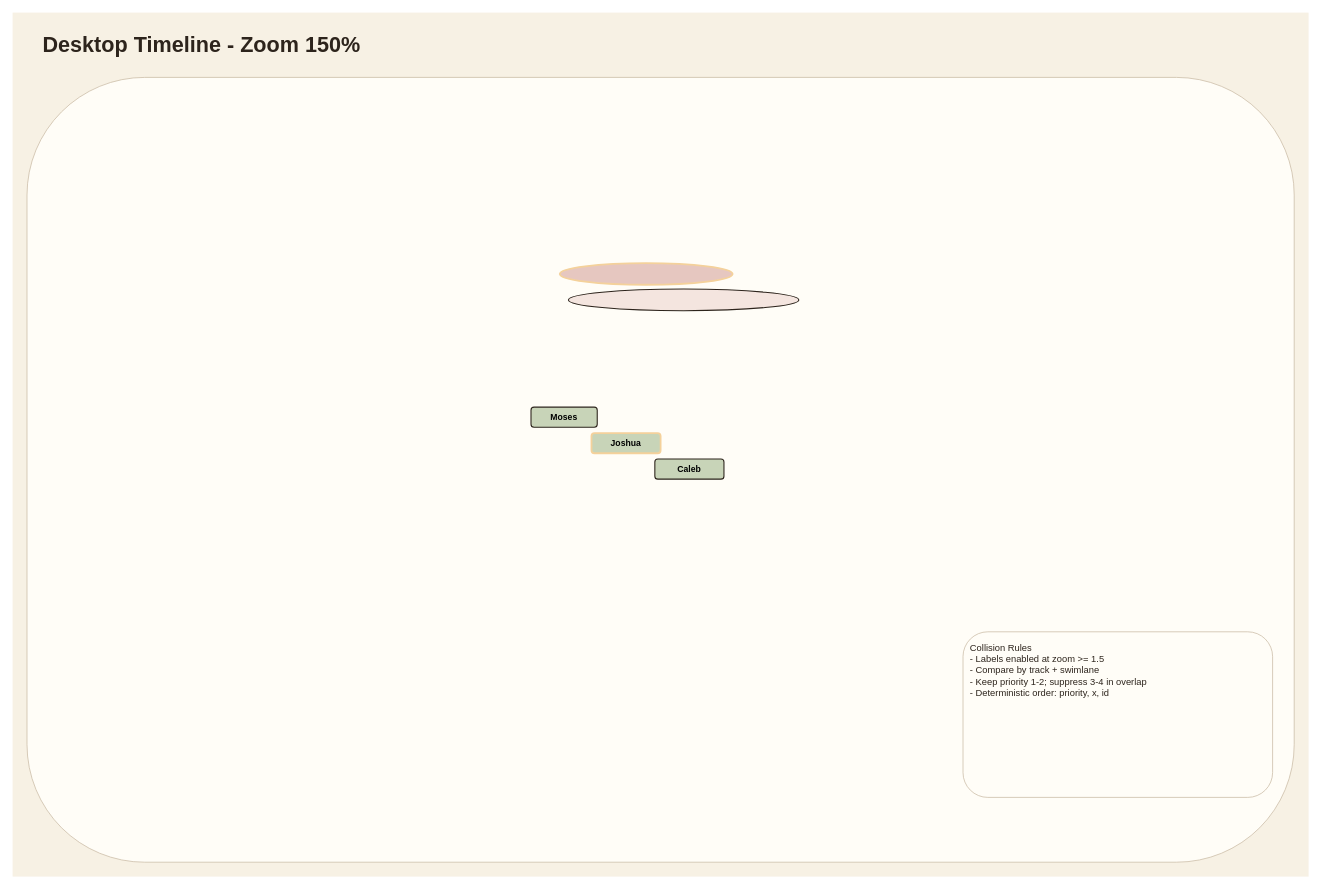
The diagram is 1320 pixels wide and 888 high, and some of its shapes have lost their labels. The centre of each missing label's shape, as x and y in pixels:
"Exodus (priority 1)" goes at [646,273].
"Passover (priority 3, hidden label)" goes at [683,299].
